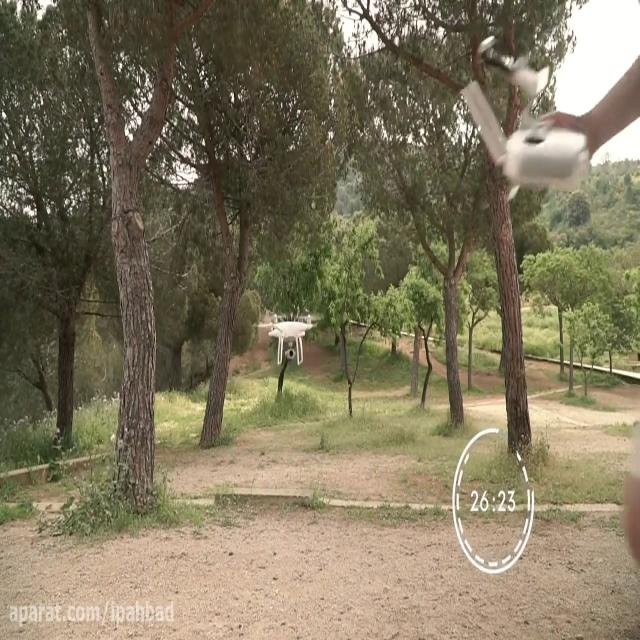drone: (253, 306, 327, 371)
